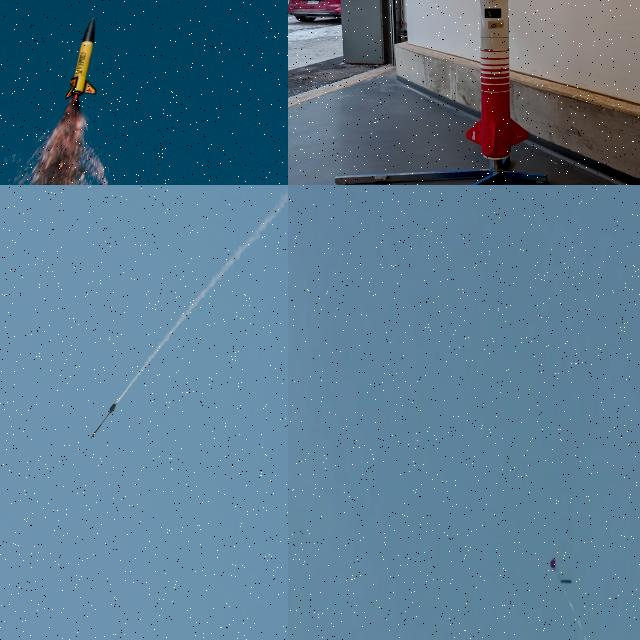Rocket: (466, 0, 528, 160), (64, 16, 98, 99), (90, 402, 118, 440)
